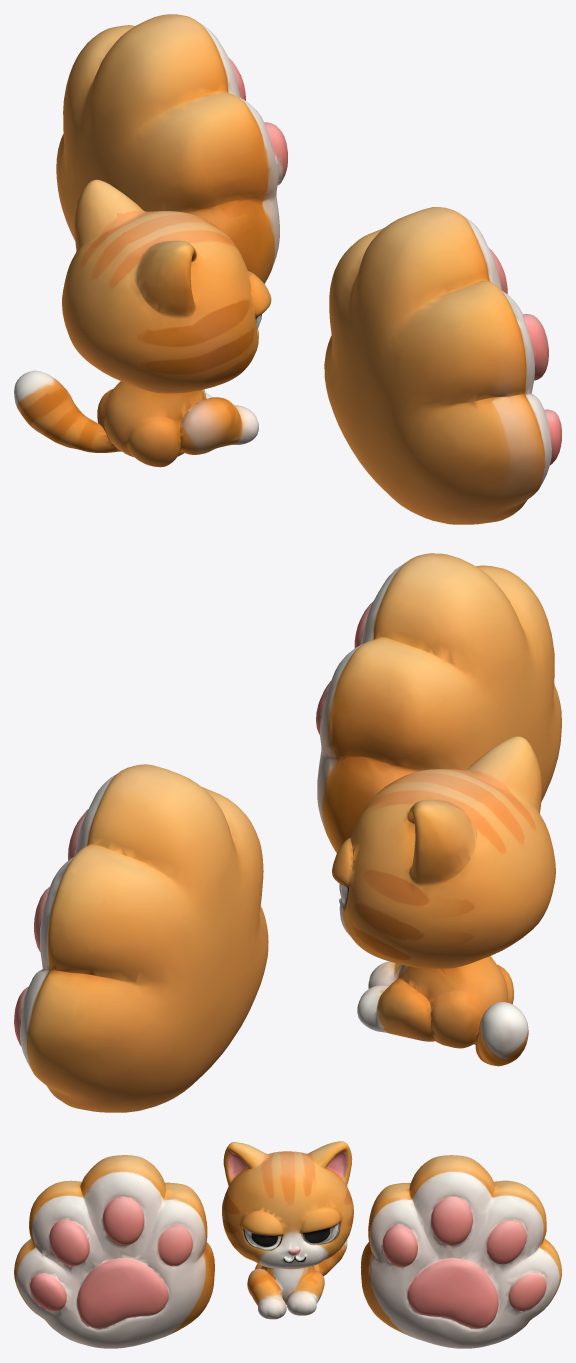
File: orange-tabby-prepared-v01.glb
The picture shows the model from 3 angles, top to bottom: view 1: azimuth 30°, elevation 25°; view 2: azimuth 150°, elevation 25°; view 3: azimuth 270°, elevation 25°; orthographic projection. The views are drawn at different scales.
Visible parts, largest first — view 1: SM_Paw_R, SM_Body, SM_Paw_L; view 2: SM_Paw_L, SM_Body, SM_Paw_R; view 3: SM_Paw_L, SM_Paw_R, SM_Body.
Boxes of the visible parts, left/top/right/bottom form: SM_Paw_R: left=324, top=207, right=561, bottom=524; SM_Body: left=14, top=179, right=271, bottom=467; SM_Paw_L: left=56, top=14, right=287, bottom=283; SM_Paw_L: left=14, top=764, right=268, bottom=1112; SM_Body: left=332, top=736, right=555, bottom=1066; SM_Paw_R: left=316, top=553, right=561, bottom=853; SM_Paw_L: left=360, top=1155, right=561, bottom=1348; SM_Paw_R: left=14, top=1155, right=214, bottom=1348; SM_Body: left=222, top=1141, right=353, bottom=1319.
Size of the model in its own units: 2.03 by 1.77 by 4.76.
Materials: 1 (1 with a texture image).
